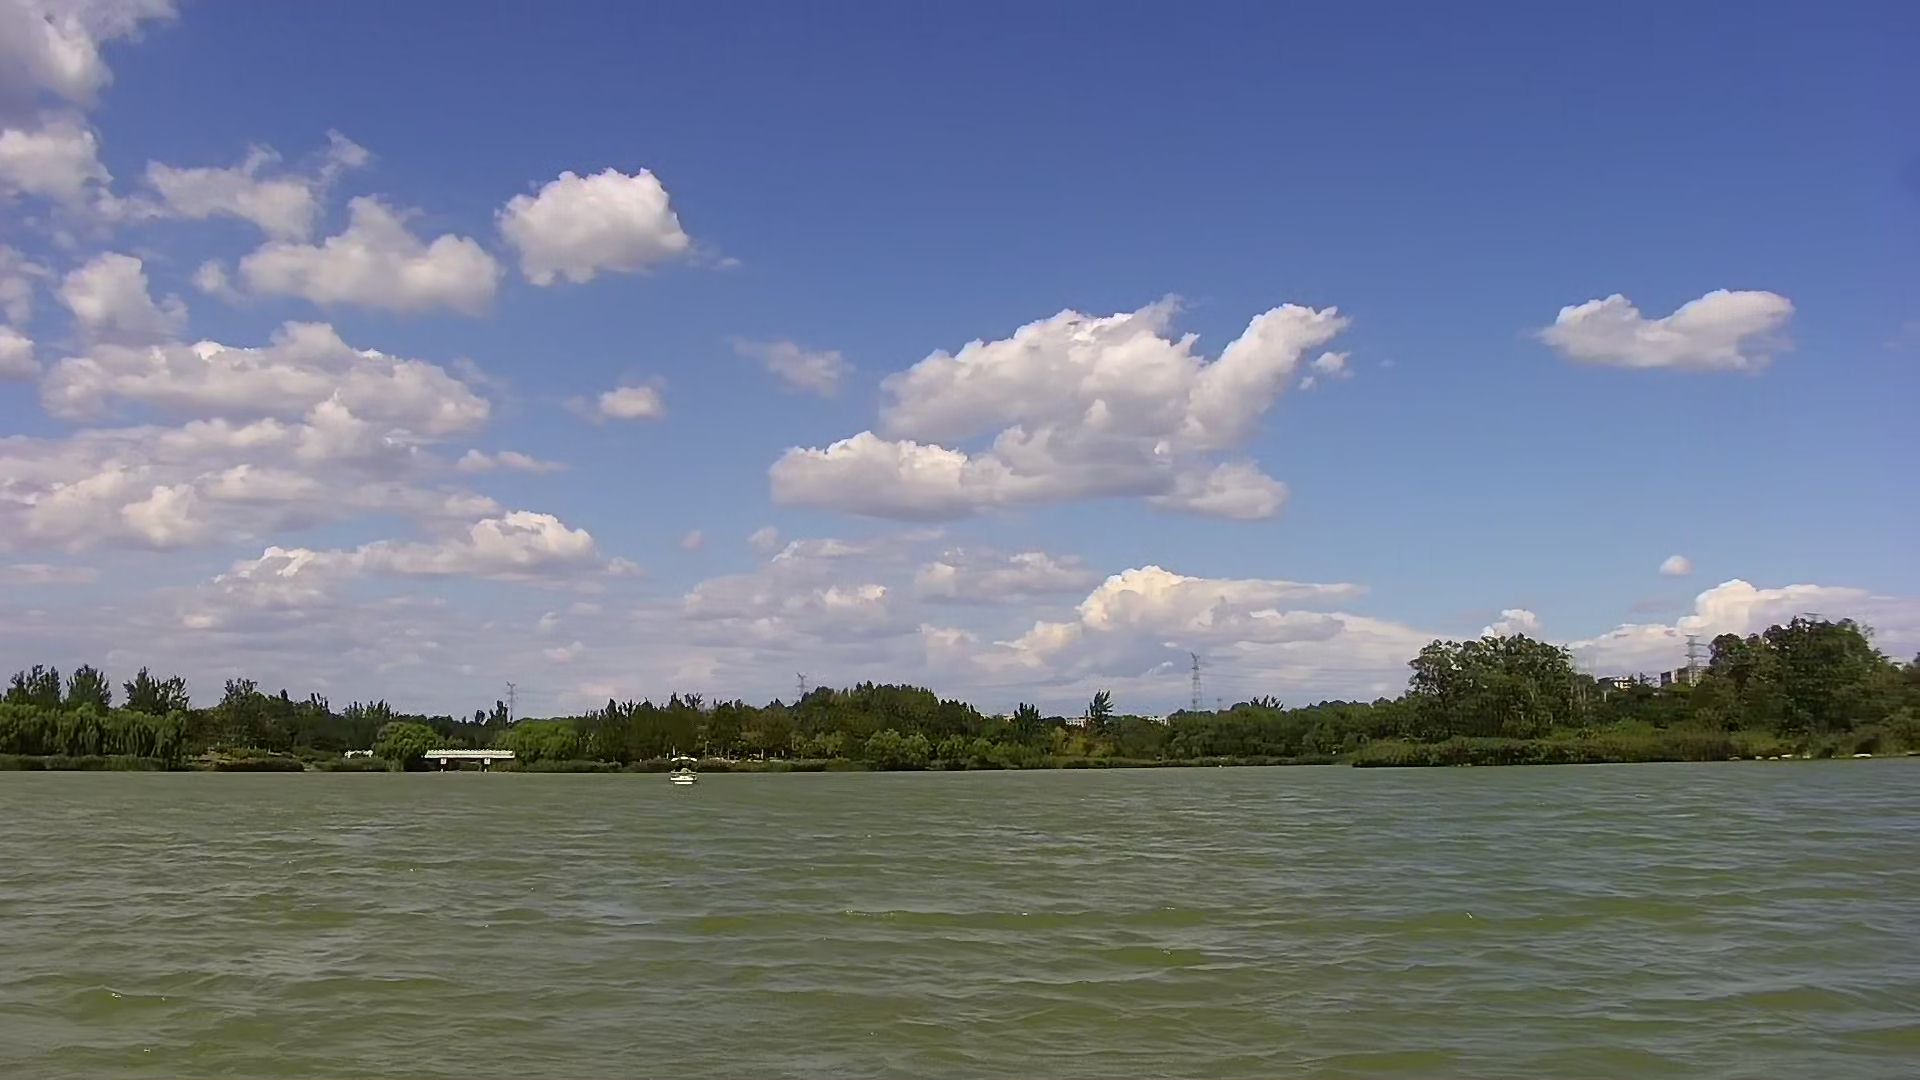boat: (663, 750, 703, 793)
bridge: (415, 738, 524, 771)
